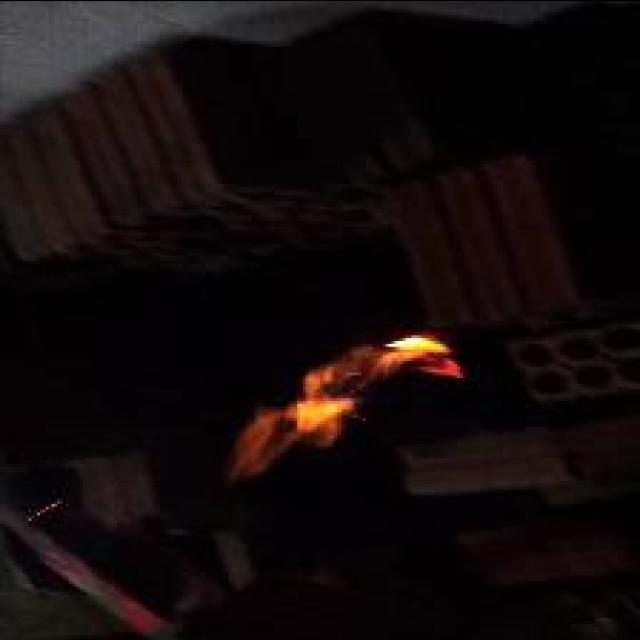Fire: (227, 336, 464, 478)
